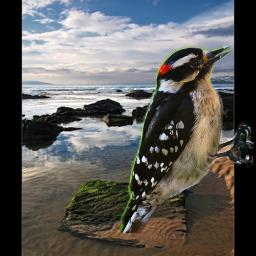Woodpecker: (120, 45, 254, 233)
